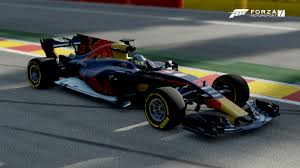f1_car: (23, 30, 286, 145)
